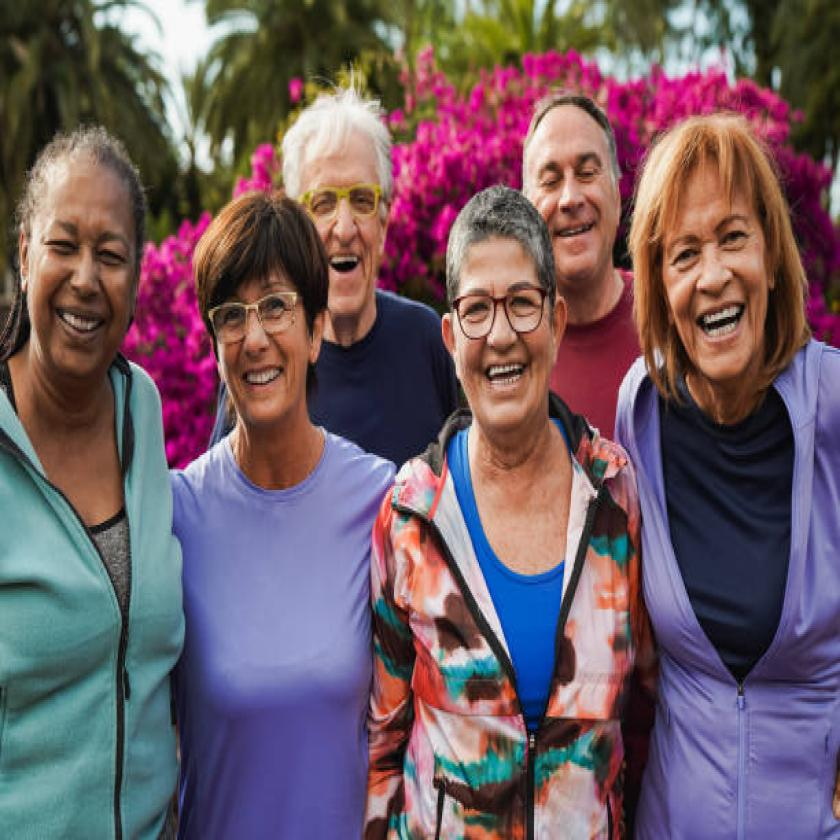Sin_casco: (629, 113, 806, 403), (0, 116, 170, 400), (184, 182, 329, 463), (442, 171, 567, 463), (278, 93, 404, 326), (532, 66, 624, 285)
